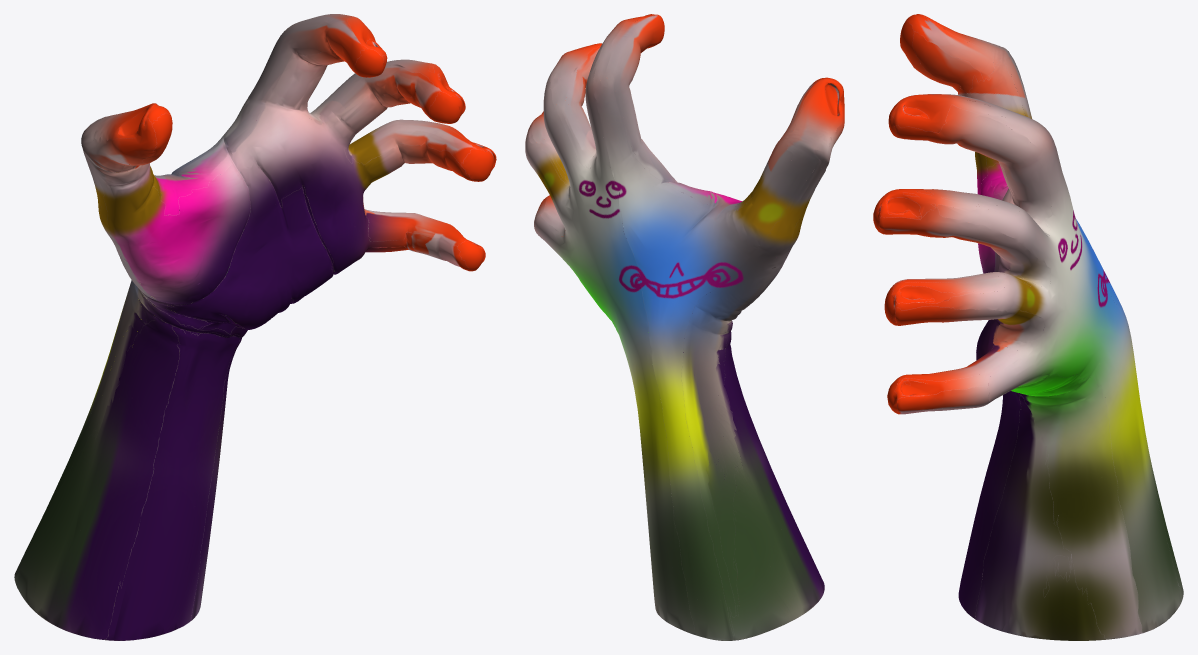
Rendered from LeftHand.glb.
3 views of the same model, side by side, from view 1: azimuth 30°, elevation 25°; view 2: azimuth 150°, elevation 25°; view 3: azimuth 270°, elevation 25° (orthographic). The views are drawn at different scales.
Parts seen in each view (by area): view 1: node_0; view 2: node_0; view 3: node_0.
Boxes of the visible parts, bbox=[...] form: node_0: bbox=[14, 14, 496, 640]; node_0: bbox=[525, 14, 844, 640]; node_0: bbox=[873, 14, 1183, 640].
Size of the model in its own units: 0.665 by 0.974 by 0.4577.
Materials: 1 (1 with a texture image).
